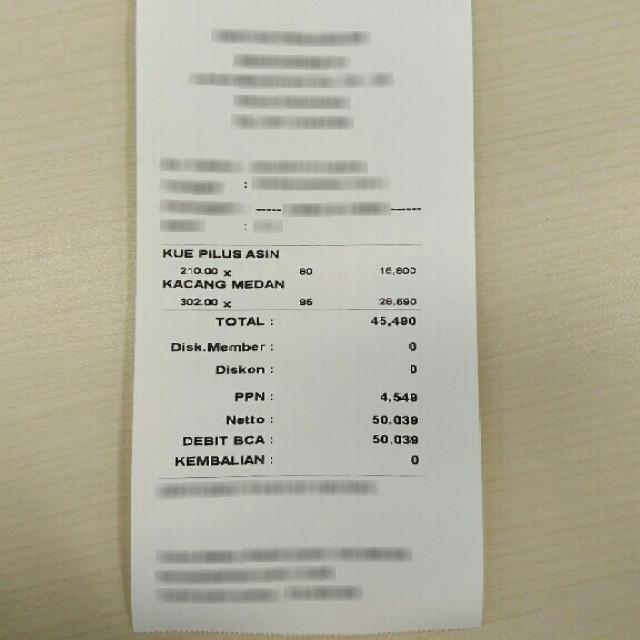kertas: (133, 0, 485, 635)
